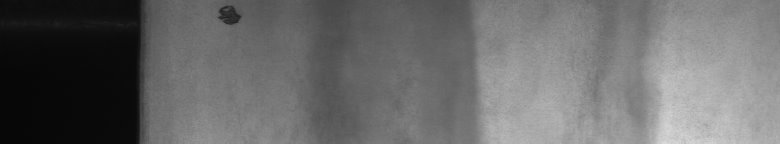fi: (212, 4, 247, 32)
